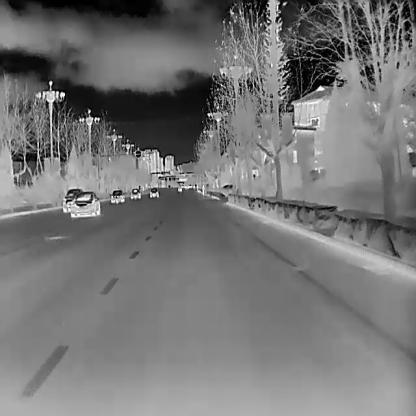car: (70, 190, 100, 217), (62, 188, 84, 213), (217, 183, 239, 196), (110, 189, 125, 203), (130, 188, 141, 200), (149, 187, 159, 197)
